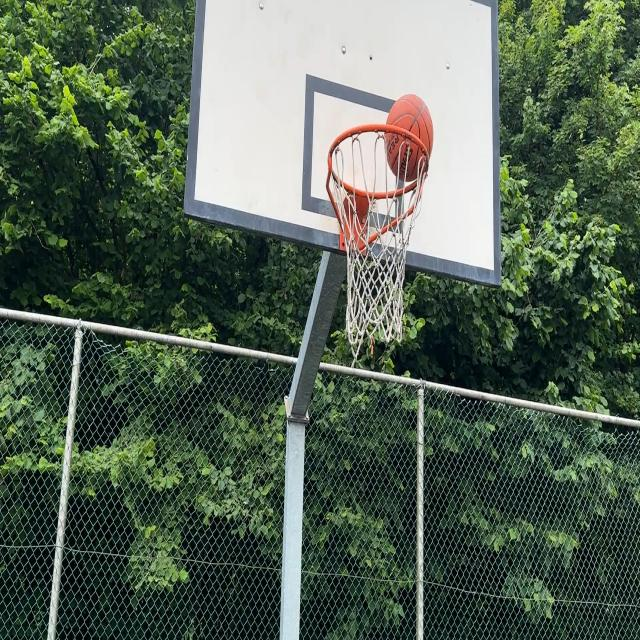rebound_hit: (383, 93, 434, 184)
